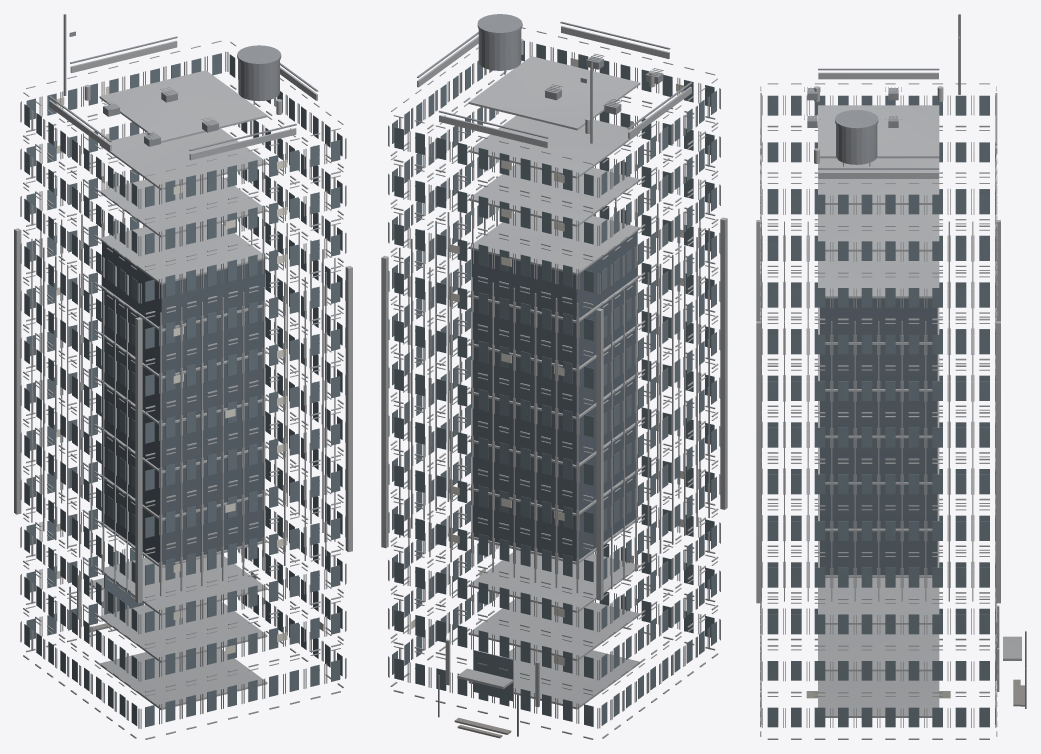
File: tower-glass.fbx
3 renders of one model, left to right at view 1: azimuth 30°, elevation 25°; view 2: azimuth 150°, elevation 25°; view 3: azimuth 270°, elevation 25°, orthographic. The views are drawn at different scales.
Parts seen in each view (by area): view 1: Building, WinGlow; view 2: Building, WinGlow; view 3: Building.
Boxes of the visible parts, x1,y1,x2,y2 form: Building: [14, 14, 352, 739]; WinGlow: [56, 86, 323, 654]; Building: [381, 14, 727, 739]; WinGlow: [411, 58, 683, 665]; Building: [756, 14, 1026, 739].
Bounding box in the file's own units: 1665 × 4840 × 1839.
